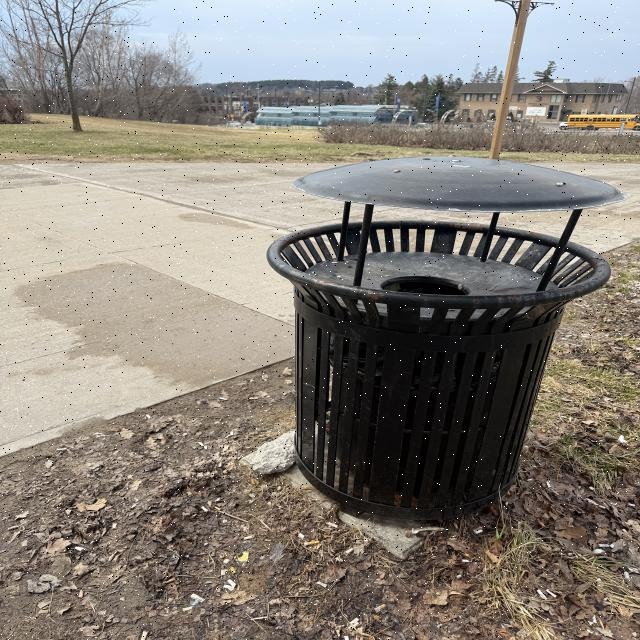Dustbin: (267, 155, 623, 524)
